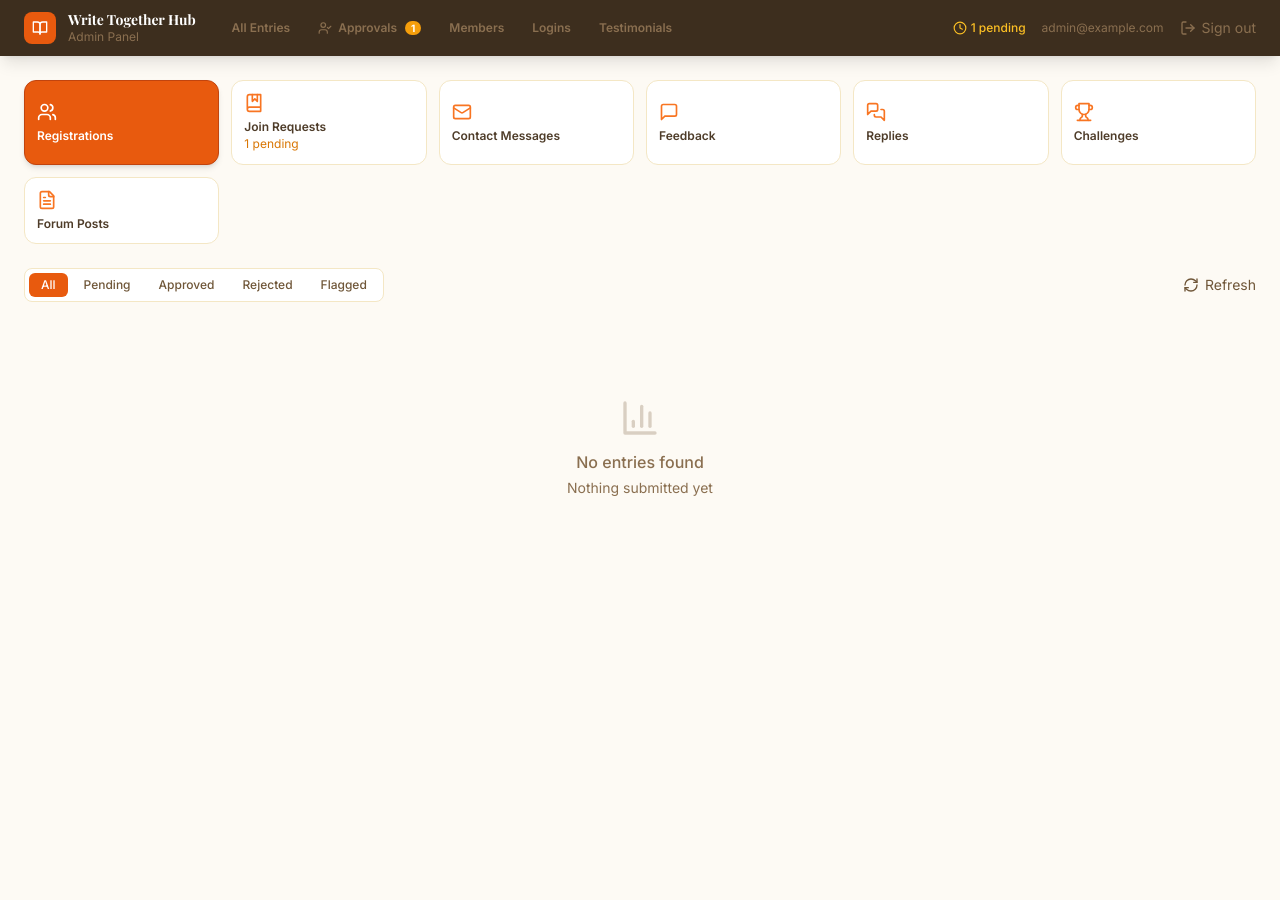
it: AdminDashboard approvals › approving a join request creates their login via the edge function, not a bare status update
The width and height of the screenshot is (1280, 900).
Step 1. Click the button "Join Requests 1 pending" → (329, 122), box x1=231 y1=80 x2=427 y2=165
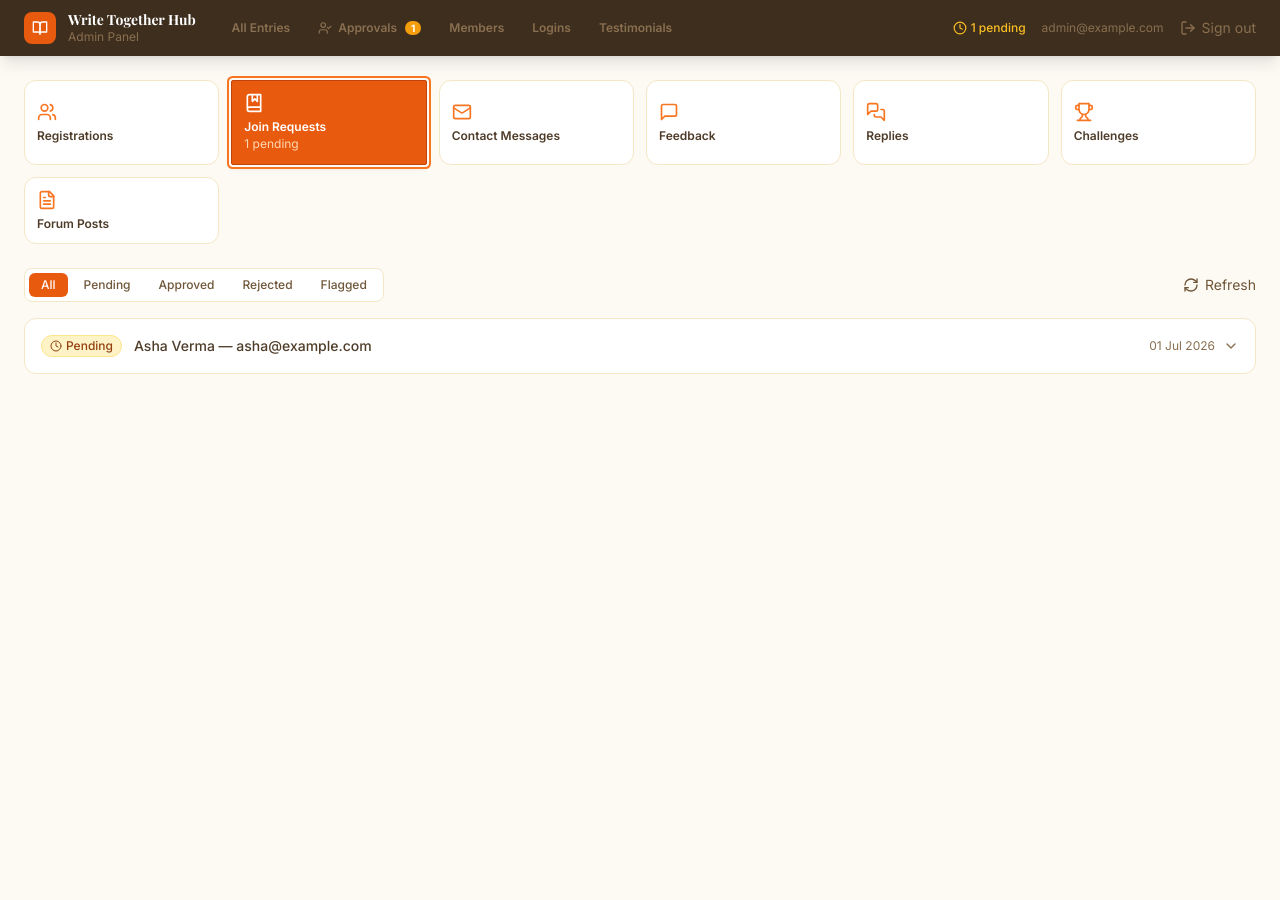
Step 2. Click the button "Pending Asha Verma — asha@example.com 01 Jul 2026" → (82, 346), box x1=25 y1=319 x2=1255 y2=373
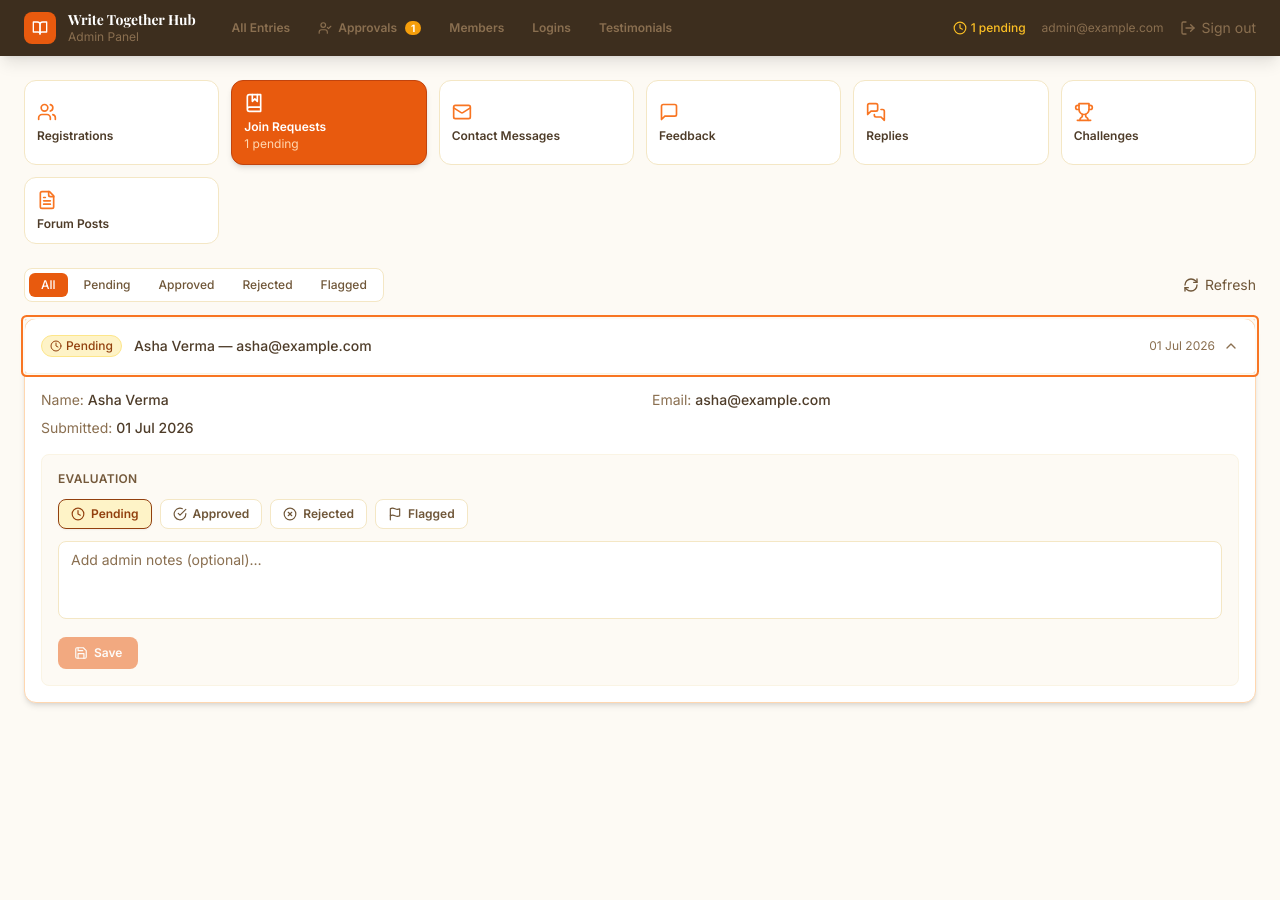
Check: the text "Evaluation" is shown, box x1=58 y1=471 x2=138 y2=486
Step 3. Click the button "Approved" below "Evaluation" → (211, 514), box x1=160 y1=499 x2=262 y2=529
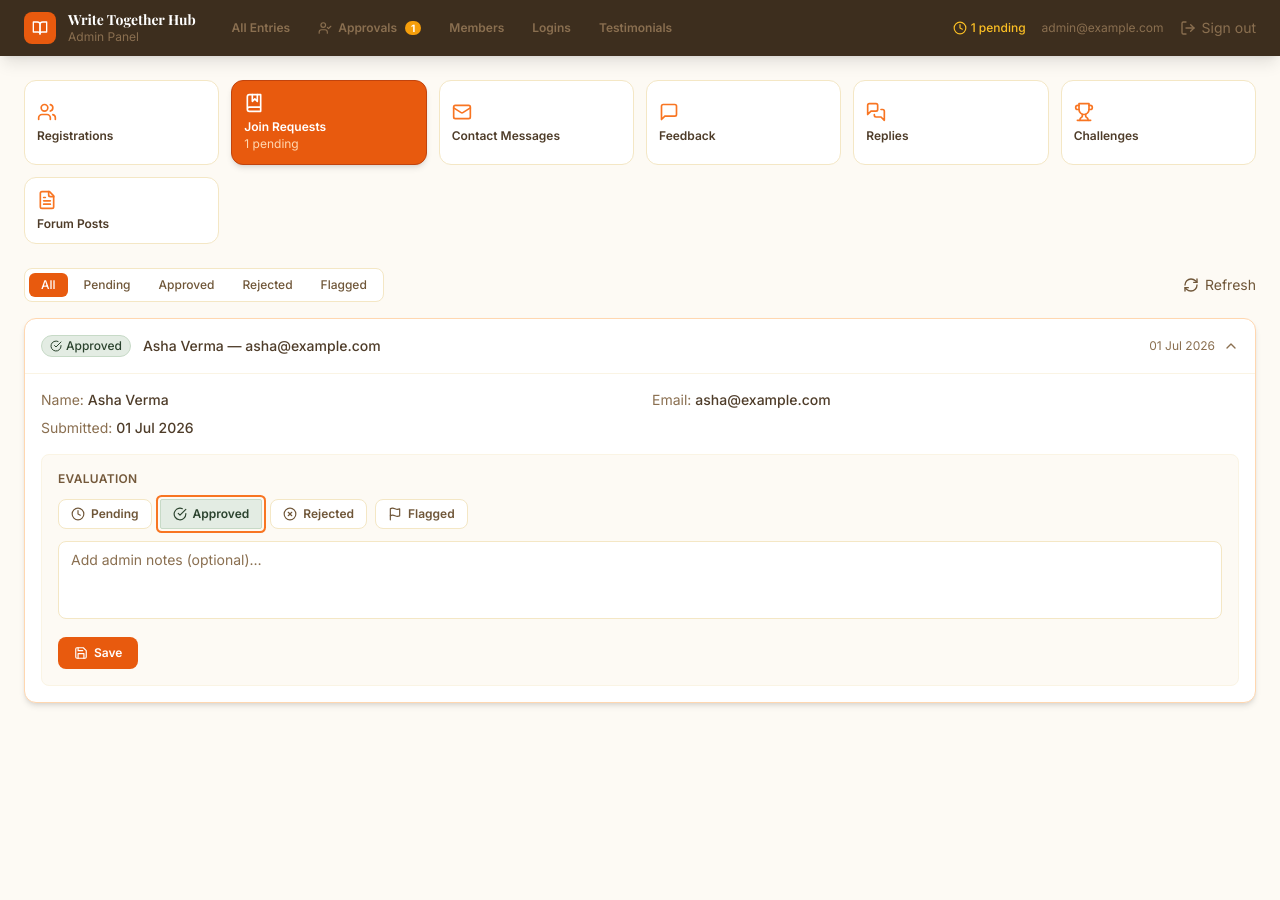
Step 4. Click the button "Save" → (98, 653), box x1=58 y1=637 x2=138 y2=669
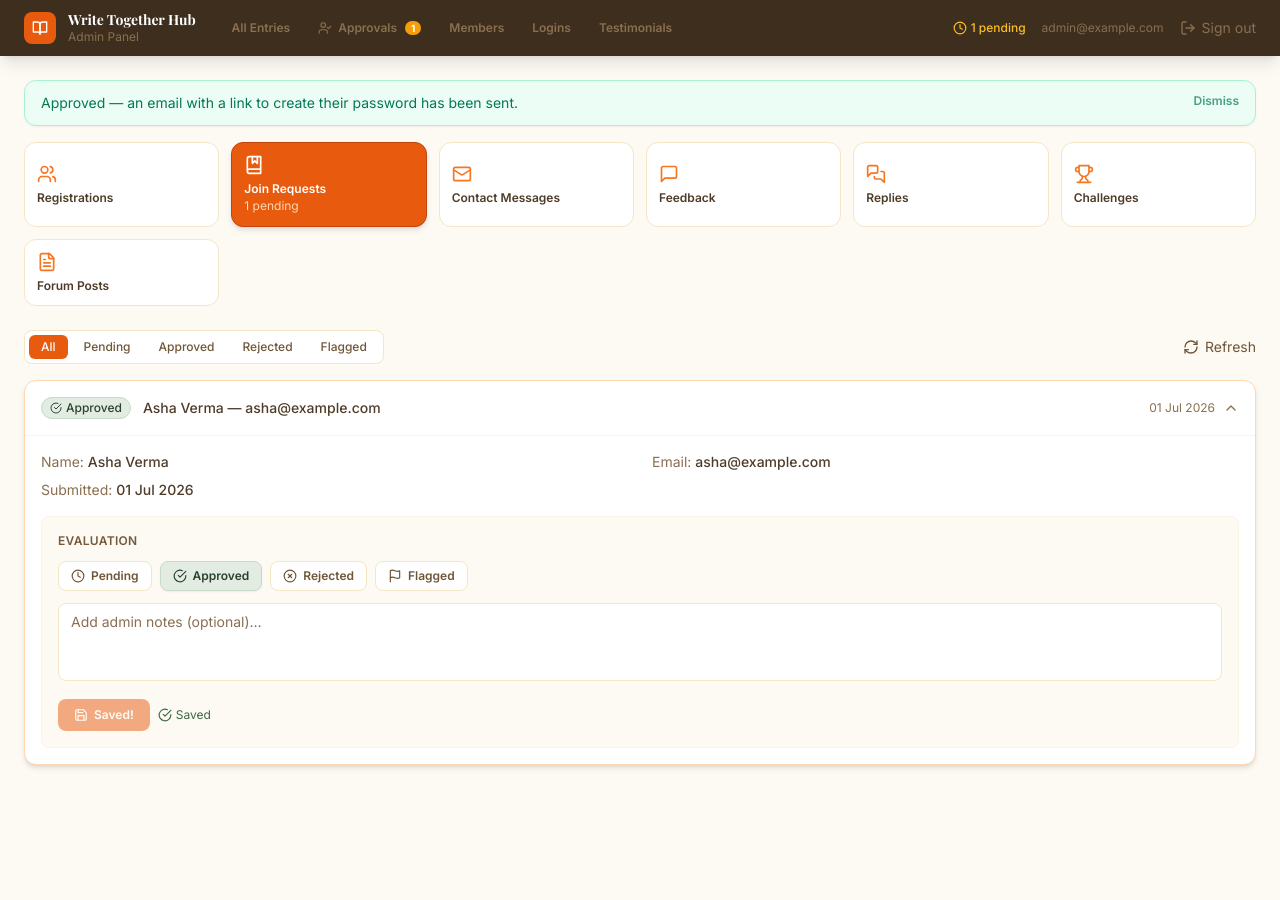
Check: the text "link to create their password has been sent" is shown, box x1=41 y1=94 x2=518 y2=111
